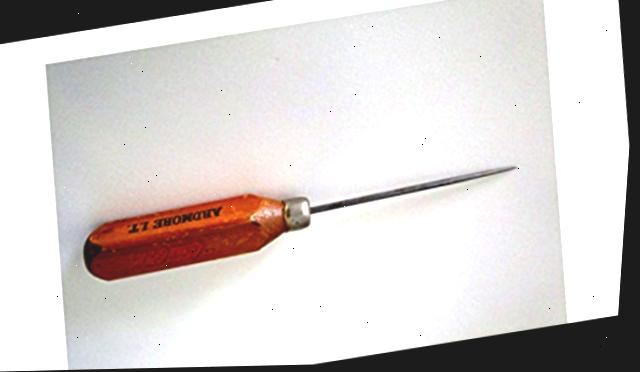ice pick: (78, 152, 525, 284)
